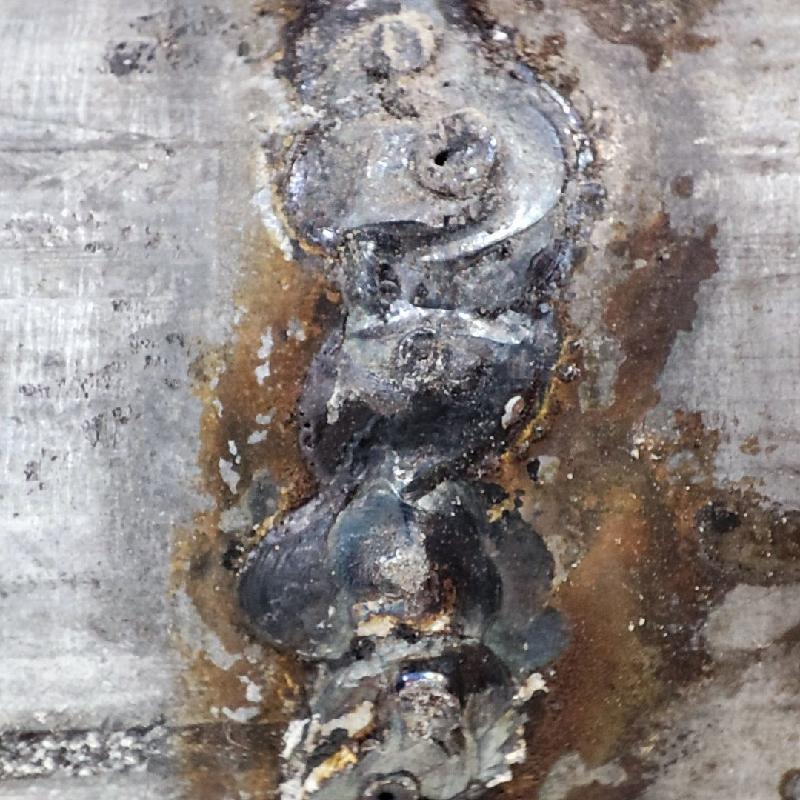Not_fully_soldered: (256, 1, 584, 298)
Surface_pores: (417, 128, 473, 184)
wrong_size: (247, 299, 554, 798)
